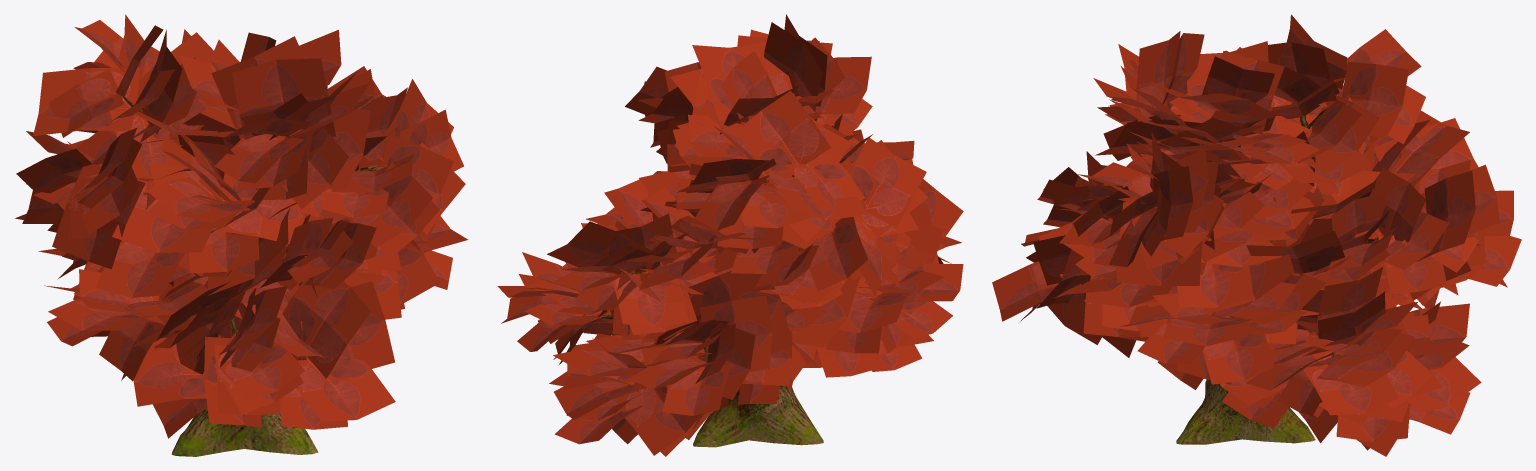
The model's file is sb_obj_nature001_Tree01b.fbx.
3 views of the same model, side by side, from view 1: azimuth 30°, elevation 25°; view 2: azimuth 150°, elevation 25°; view 3: azimuth 270°, elevation 25° (orthographic). The views are drawn at different scales.
Parts seen in each view (by area): view 1: leaf01b, sb_obj_nature001_Tree01b; view 2: leaf01b, sb_obj_nature001_Tree01b; view 3: leaf01b, sb_obj_nature001_Tree01b.
Boxes of the visible parts, left/top/right/bottom form: leaf01b: left=15, top=14, right=468, bottom=438; sb_obj_nature001_Tree01b: left=116, top=88, right=379, bottom=456; leaf01b: left=497, top=14, right=963, bottom=456; sb_obj_nature001_Tree01b: left=599, top=160, right=823, bottom=447; leaf01b: left=992, top=14, right=1521, bottom=456; sb_obj_nature001_Tree01b: left=1108, top=108, right=1378, bottom=444.
Bounding box in the file's own units: 5.23 × 4.85 × 5.9.
